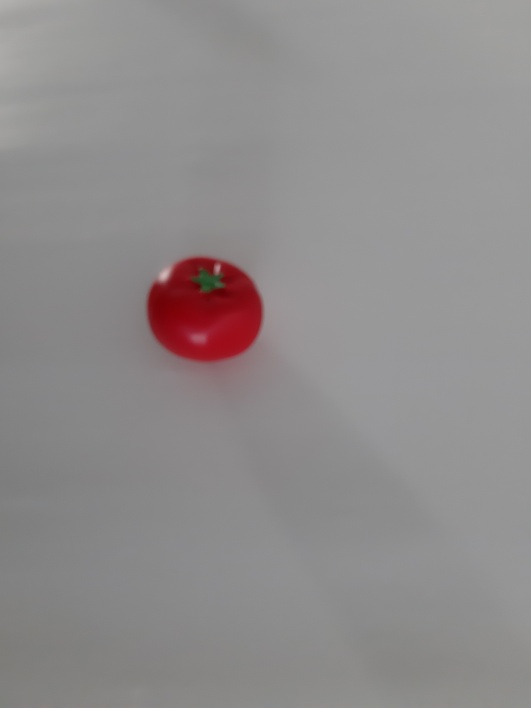tomato: (135, 248, 271, 374)
